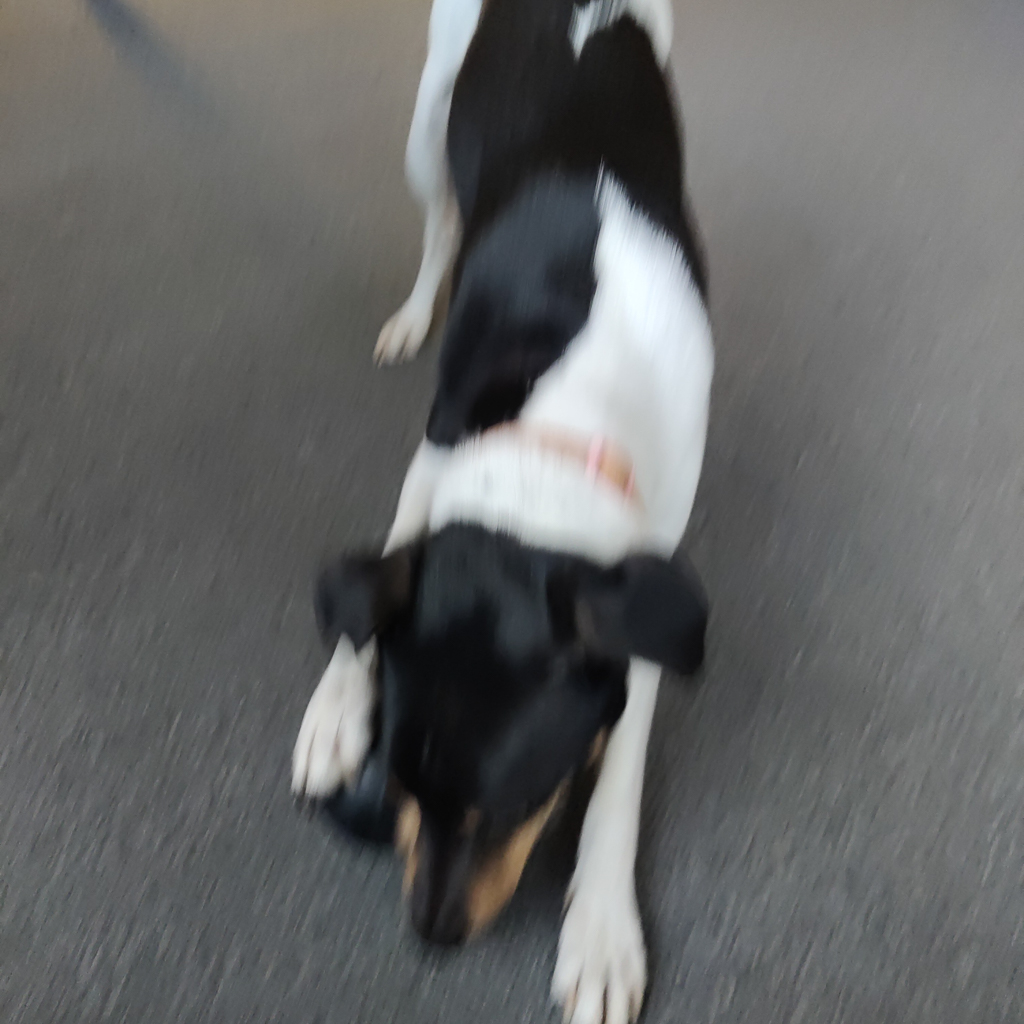Dog: (231, 0, 770, 1024)
